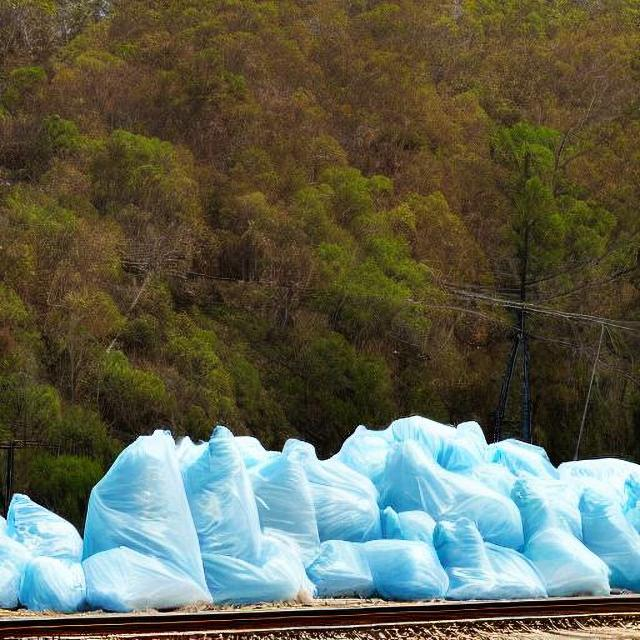plastic bag: (302, 413, 630, 599), (47, 428, 311, 608), (6, 459, 203, 611)
